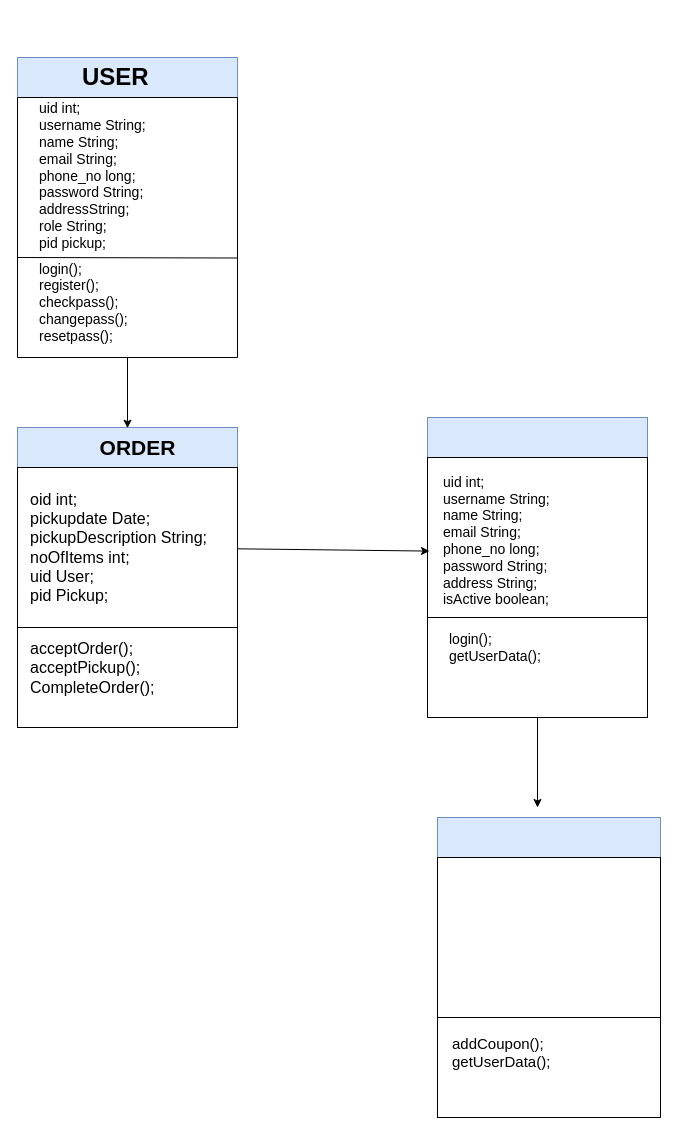
This 678x1135 diagram has some shape labels left out. Here are the shapes that lost their labels. From the top down, the centre of each, then its label:
point (537, 437): PICKUP
point (548, 837): COUPON
point (548, 937): cid int; brand String; discount int; validity Date; uid User;
